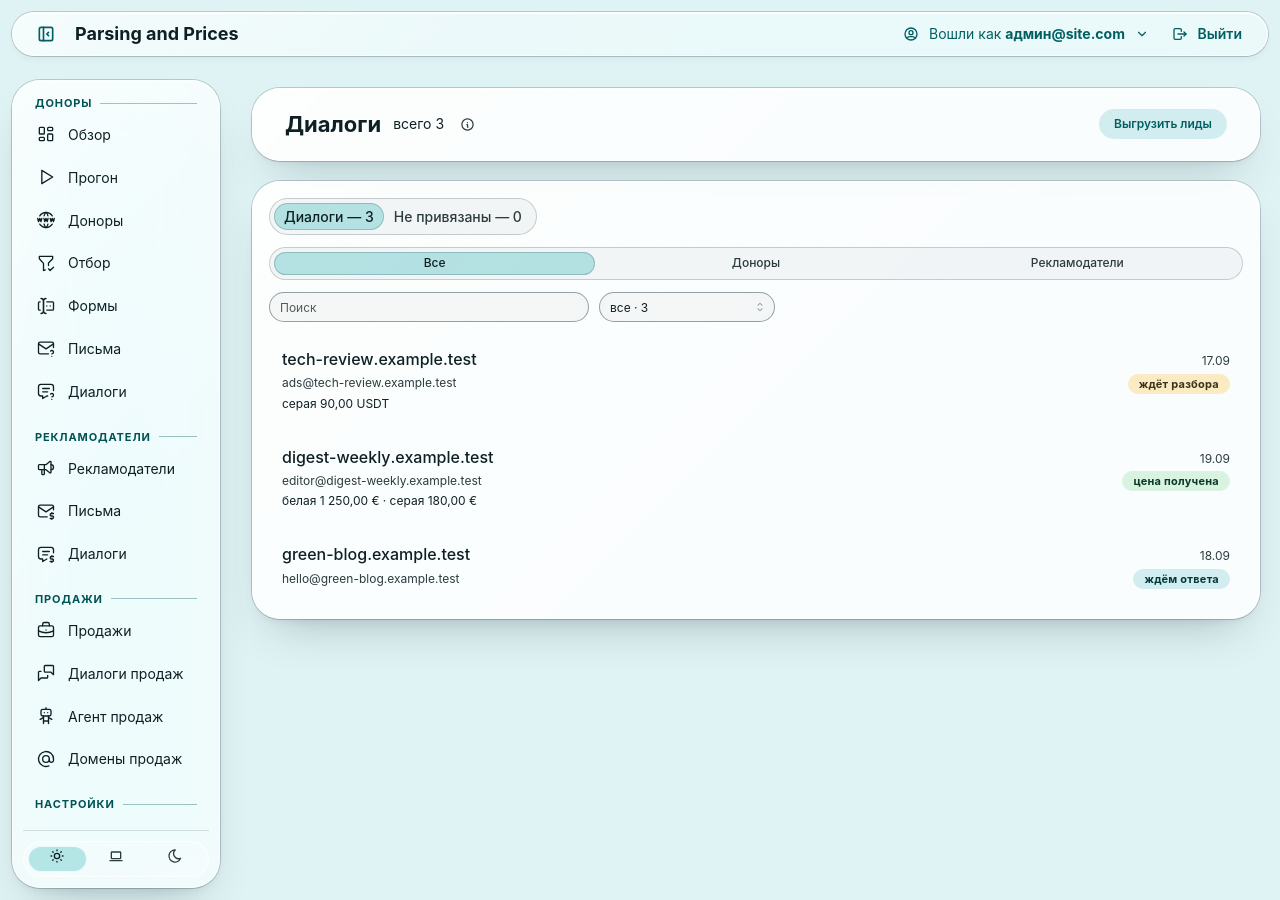
Test: выгрузка лидов › лиды уходят файлом с пропуском — те же поля, что в вебхуке CRM
Expected: the text "digest-weekly.example.test" is shown, top-left (282, 445), bottom-right (494, 470)
Click the button "Выгрузить лиды": (1163, 124) top-left (1099, 109), bottom-right (1227, 139)
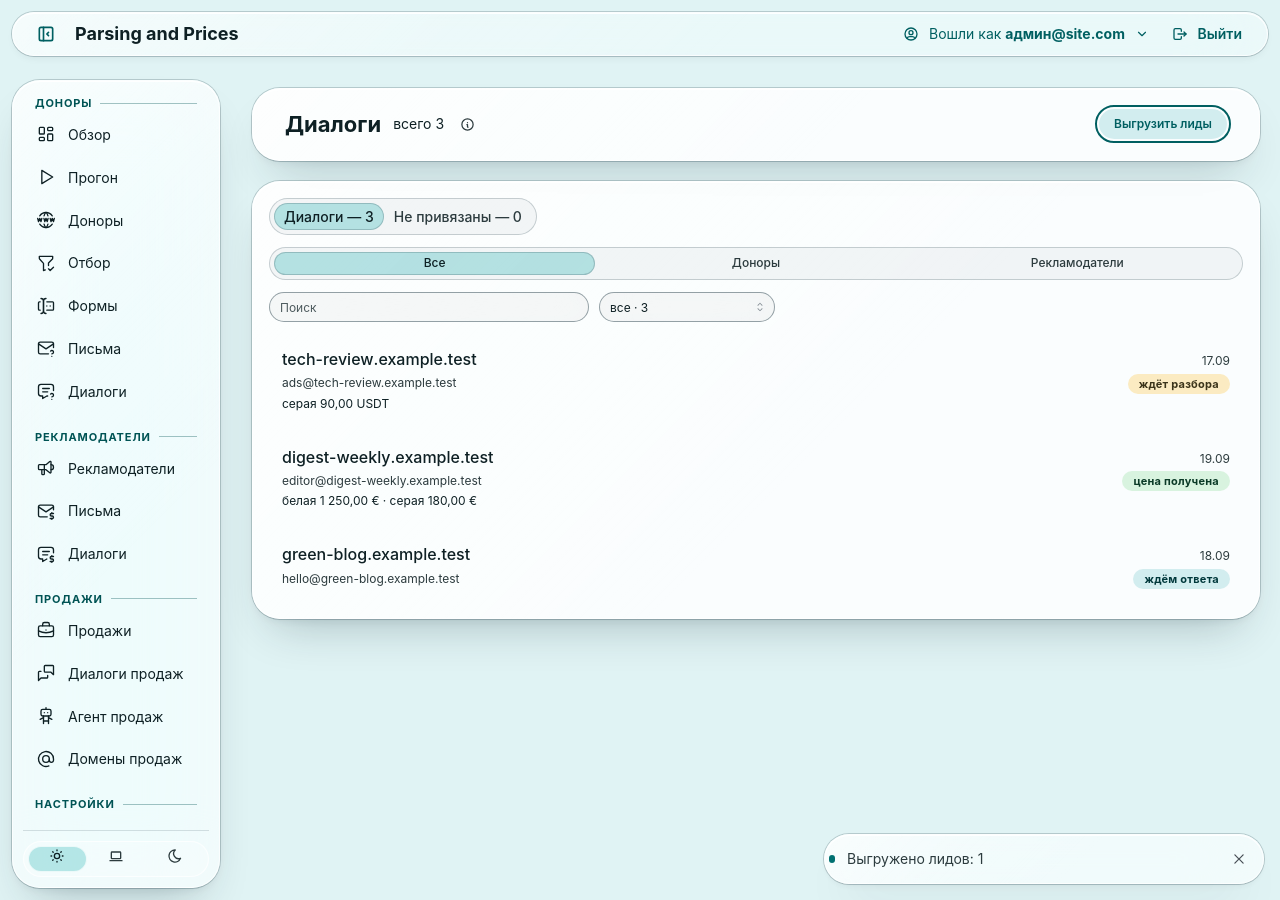
Now the text "Выгружено лидов: 1" is shown, box top-left (847, 850), bottom-right (983, 867)
